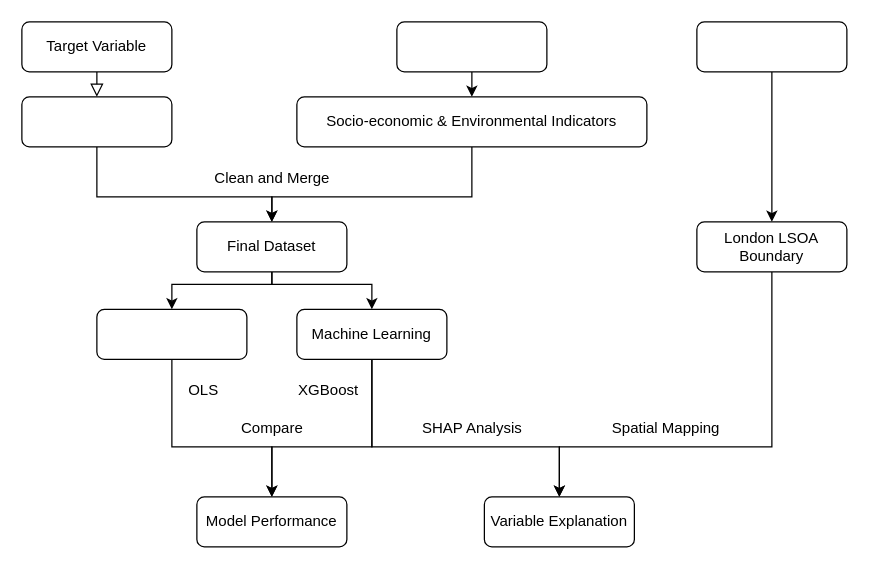
The diagram is 869 pixels wide and 569 high, and some of its shapes have lost their labels. The box of each missing label's shape, as (x1, y1, x2, y2) in pixels:
Explaining Variable: (396, 21, 547, 72)
Liner Regression: (96, 308, 247, 359)
Study Boundary: (696, 21, 847, 72)
Theft Crime Rate: (21, 96, 172, 147)
